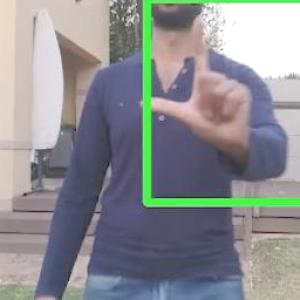land_hand: (135, 8, 262, 164)
